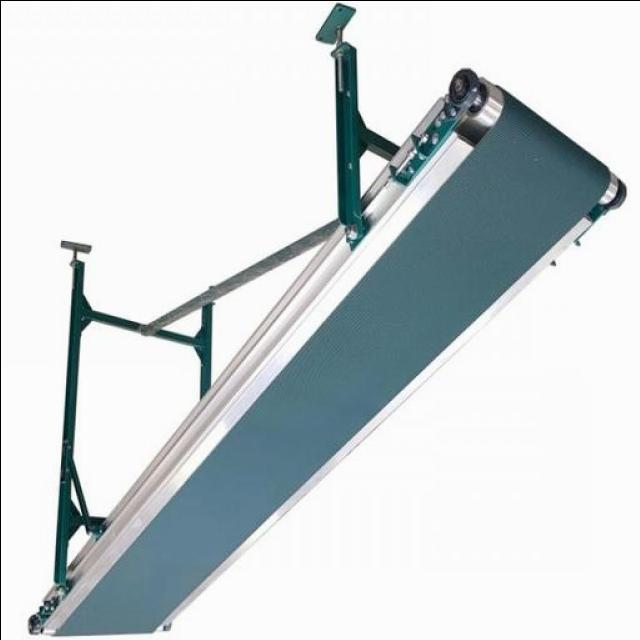conveyor: (46, 103, 603, 632)
